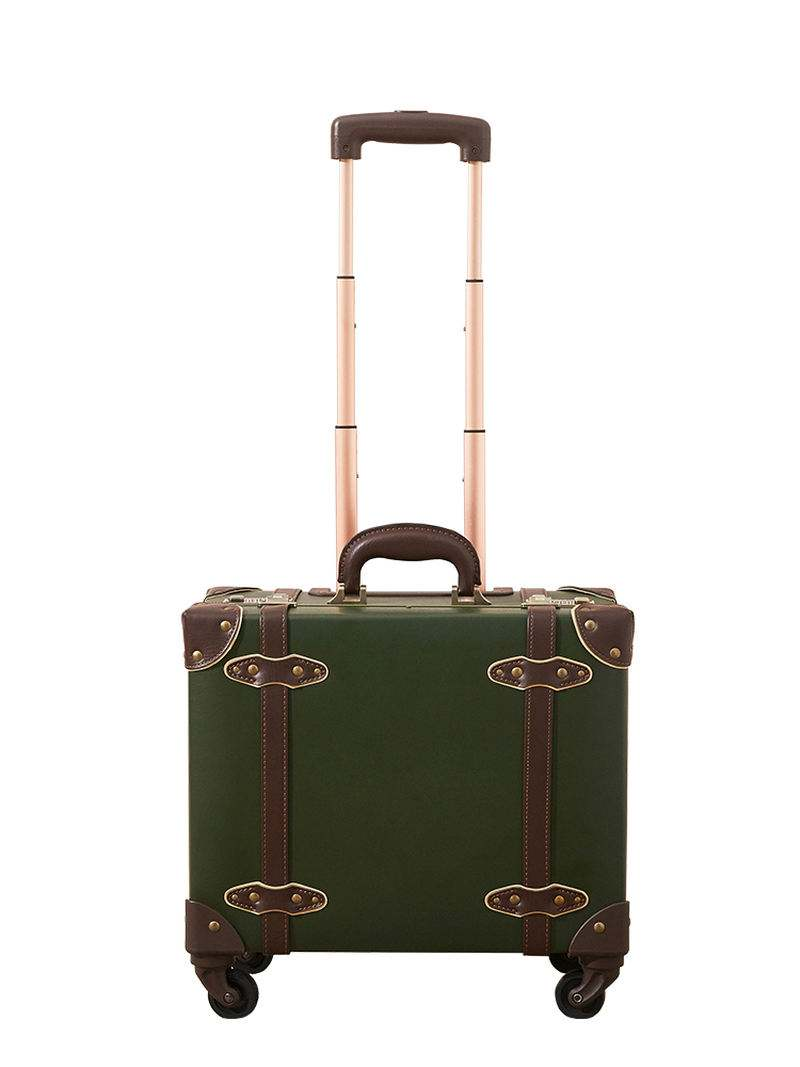box: (181, 586, 633, 956)
handle: (328, 523, 485, 605)
wheel: (207, 968, 259, 1020), (554, 972, 605, 1019)
